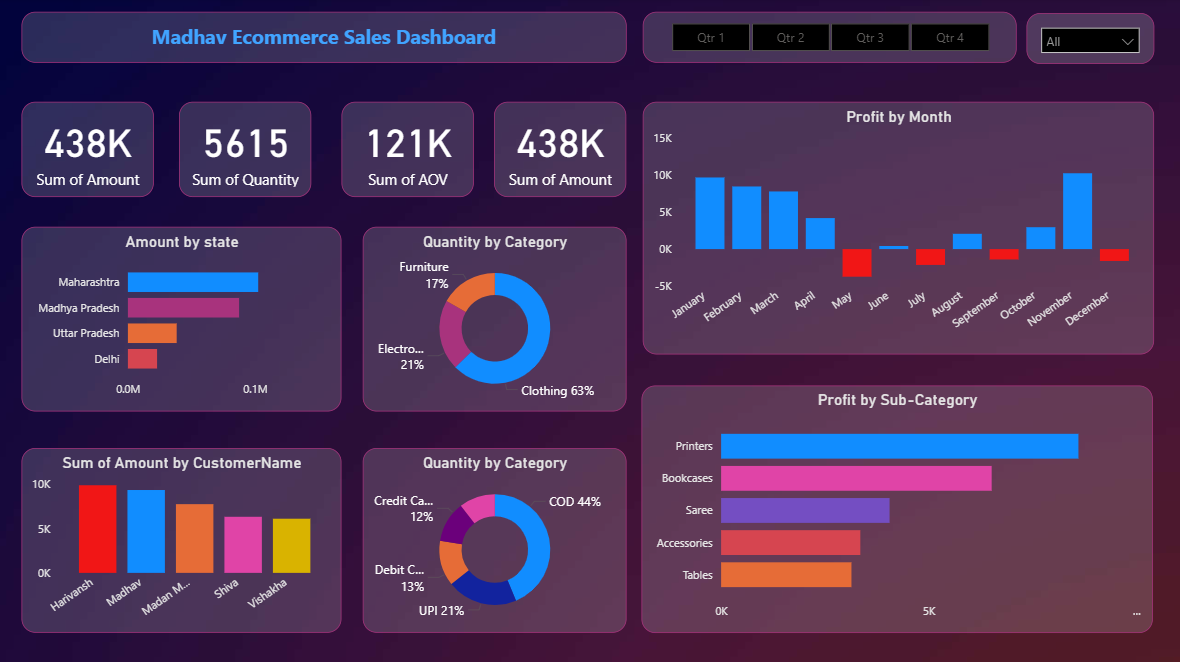

This screenshot's page, from the dashboard's own definition file:
{"tool":"powerbi","page":{"name":"Page 1","canvas":[1280,720],"ordinal":0},"visuals":[{"type":"textbox","box":[24.4,14.9,655,55.5],"z":0},{"type":"columnChart","title":"Profit by Month","fields":{"Y":["Details.Profit"],"Category":["Orders.Order Date.Variation.Date Hierarchy.Month"]},"box":[697,112.3,553.5,273.4],"z":1000},{"type":"clusteredBarChart","title":"Profit by Sub-Category","fields":{"Category":["Details.Sub-Category"],"Y":["Details.Profit"]},"box":[695.6,419.5,553.5,268],"z":2000},{"type":"donutChart","title":"Quantity by Category","fields":{"Category":["Details.Category"],"Y":["Details.Quantity"]},"box":[393.8,247.7,285.6,200.3],"z":3000},{"type":"donutChart","title":"Quantity by Category","fields":{"Y":["Details.Quantity"],"Category":["Details.PaymentMode"]},"box":[393.8,487.2,285.6,200.3],"z":4000},{"type":"card","fields":{"Values":["Details.Amount"]},"box":[24.4,112.3,143.5,102.9],"z":5000},{"type":"card","fields":{"Values":["Details.Quantity"]},"box":[194.9,112.3,143.5,102.9],"z":6000},{"type":"card","fields":{"Values":["Details.AOV"]},"box":[370.8,112.3,143.5,102.9],"z":7000},{"type":"card","fields":{"Values":["Details.Amount"]},"box":[535.9,112.3,143.5,102.9],"z":8000},{"type":"clusteredBarChart","title":"Amount by state","fields":{"Category":["Orders.State"],"Y":["Details.Amount"]},"box":[24.4,247.7,346.5,200.3],"z":9000},{"type":"columnChart","fields":{"Category":["Orders.CustomerName"],"Y":["Details.Amount"]},"box":[24,487,346,200],"z":10000},{"type":"slicer","fields":{"Values":["Orders.Order Date.Variation.Date Hierarchy.Quarter"]},"box":[697,14.9,404.7,55.5],"z":11000},{"type":"slicer","fields":{"Values":["Orders.State"]},"box":[1112.5,16.2,138,55.5],"z":12000}]}

Visuals, with their boxes in screenshot pixels (x1, y1, x2, y2), scaled from the page's 1280x720 canvas onto the 1180x662 screenshot:
textbox: l=22, t=14, r=626, b=65
"Profit by Month" columnChart: l=643, t=103, r=1153, b=355
"Profit by Sub-Category" clusteredBarChart: l=641, t=386, r=1152, b=632
"Quantity by Category" donutChart: l=363, t=228, r=626, b=412
"Quantity by Category" donutChart: l=363, t=448, r=626, b=632
card - Details.Amount: l=22, t=103, r=155, b=198
card - Details.Quantity: l=180, t=103, r=312, b=198
card - Details.AOV: l=342, t=103, r=474, b=198
card - Details.Amount: l=494, t=103, r=626, b=198
"Amount by state" clusteredBarChart: l=22, t=228, r=342, b=412
columnChart - Orders.CustomerName x Details.Amount: l=22, t=448, r=341, b=632
slicer - Orders.Order Date.Variation.Date Hierarchy.Quarter: l=643, t=14, r=1016, b=65
slicer - Orders.State: l=1026, t=15, r=1153, b=66
